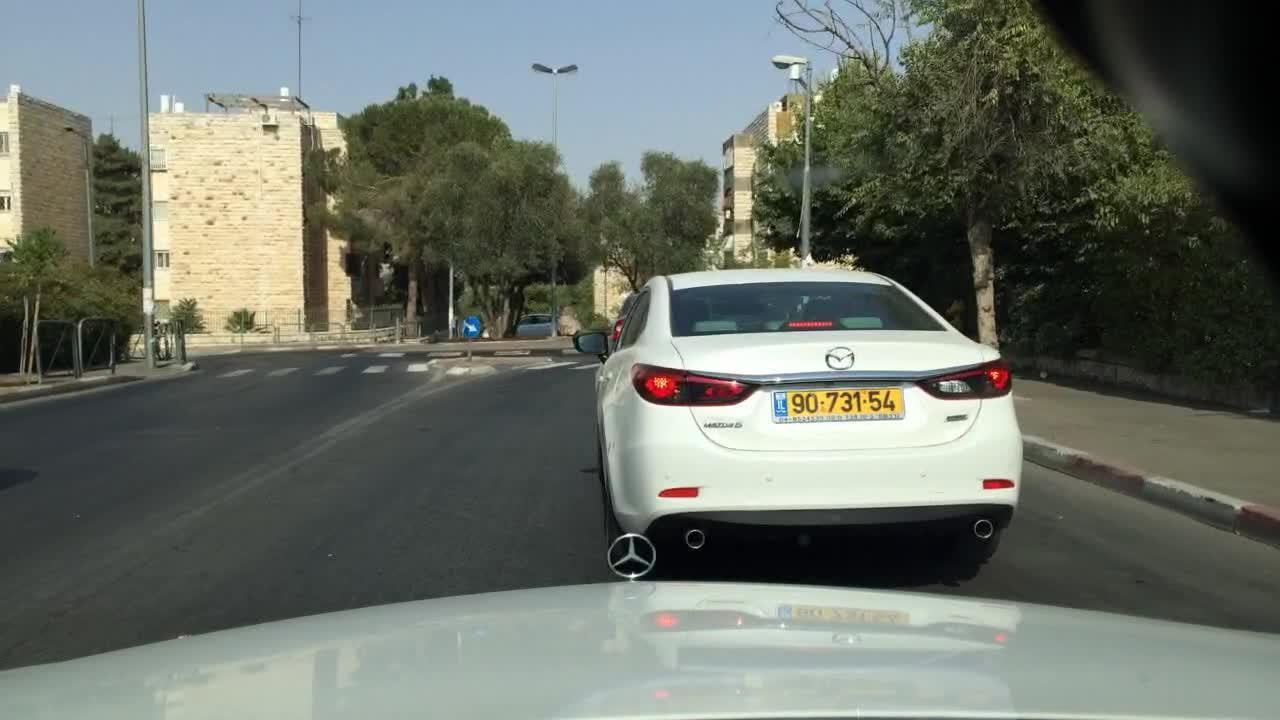Mazda: (822, 339, 864, 372)
Mercedes: (600, 529, 673, 581)
